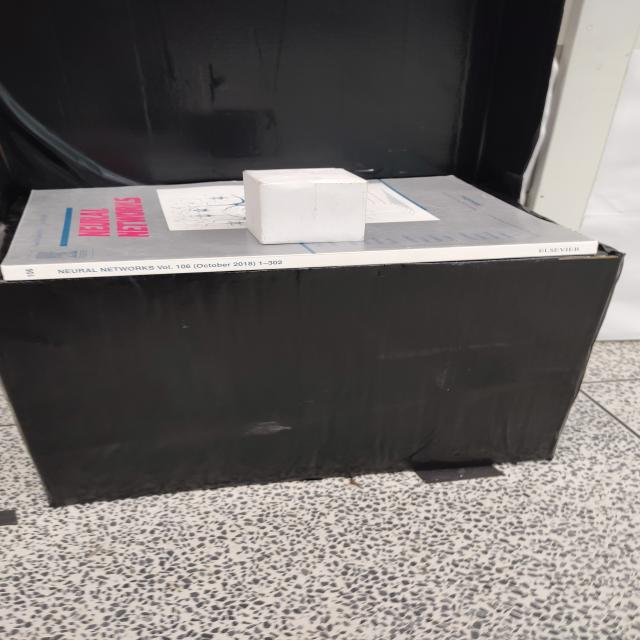bale: (239, 166, 372, 247)
